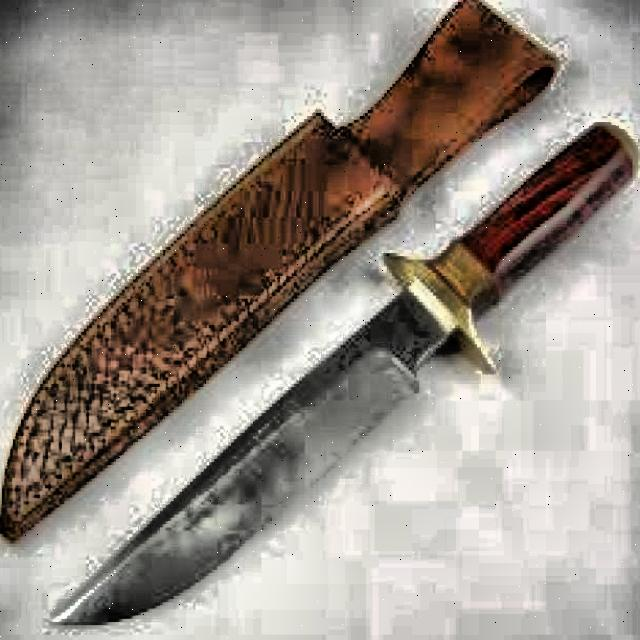knife: (56, 128, 636, 622)
